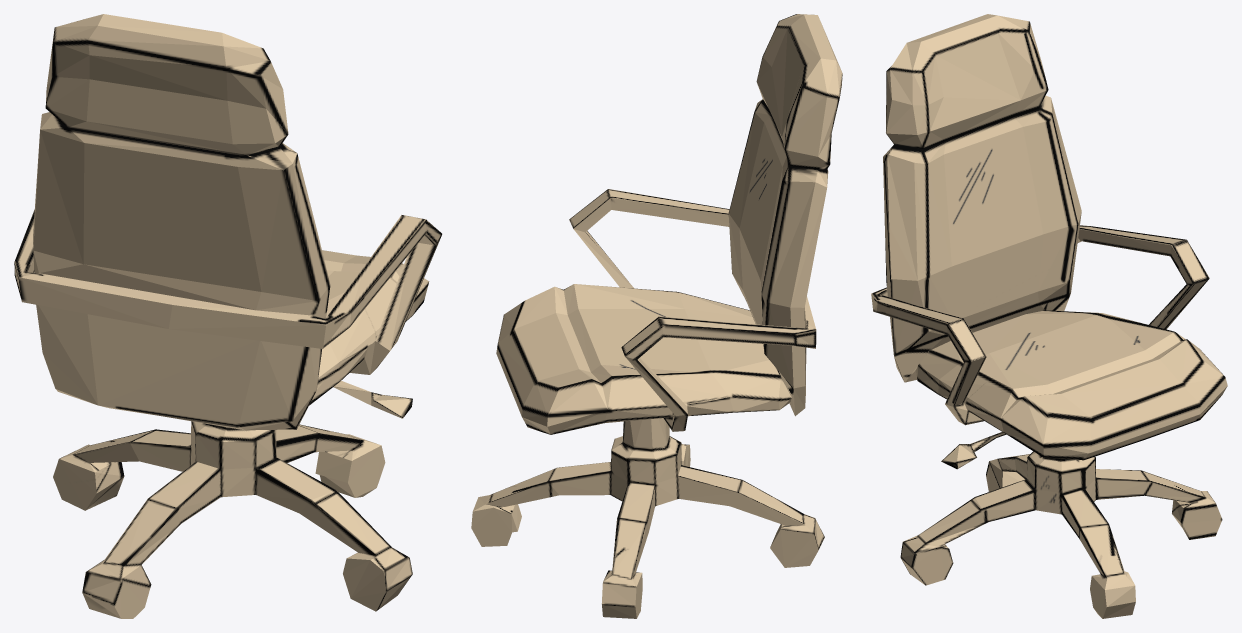
Rendered from chair04_20.glb.
The picture shows the model from 3 angles, left to right: view 1: azimuth 30°, elevation 25°; view 2: azimuth 150°, elevation 25°; view 3: azimuth 270°, elevation 25°; orthographic projection. The views are drawn at different scales.
Parts seen in each view (by area): view 1: Computer Chair; view 2: Computer Chair; view 3: Computer Chair.
Boxes of the visible parts, x1,y1,x2,y2 form: Computer Chair: (14, 14, 442, 618); Computer Chair: (471, 14, 842, 618); Computer Chair: (871, 14, 1227, 618).
Size of the model in its own units: 3.13 by 4.63 by 3.14.
Materials: 1 (1 with a texture image).
